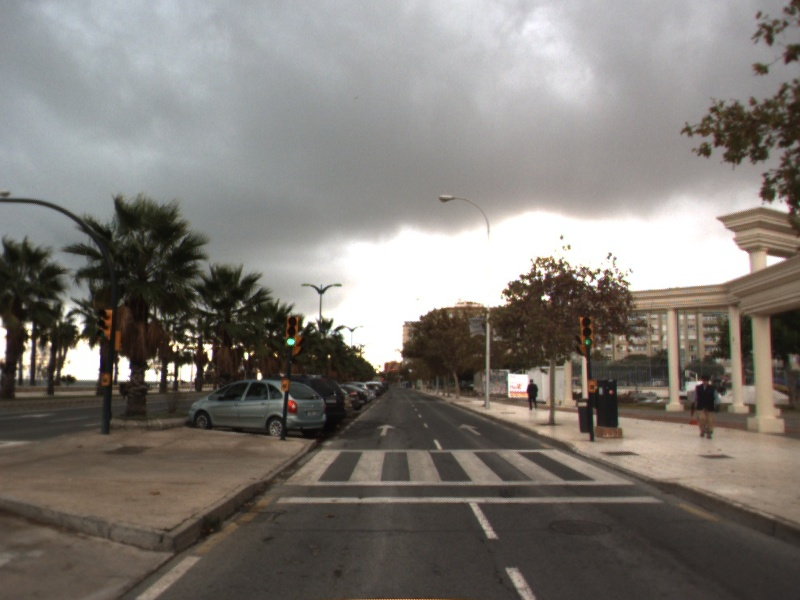STRAIGHT: (457, 422, 483, 437), (375, 423, 397, 437)
